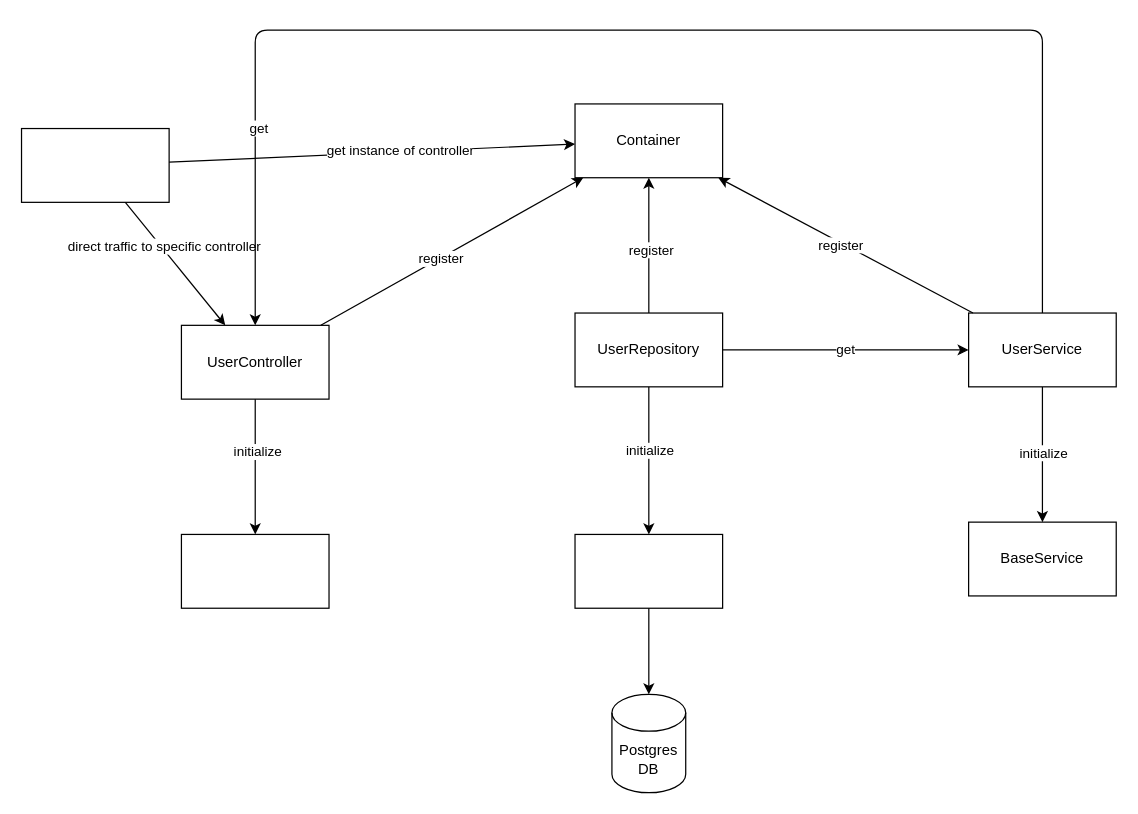
Image size: 1138x814. Some labels were removed from this diagram. Each missing label, with the centre of its shape:
BaseController: the point at 254,570
BaseRepository: the point at 648,570
route: the point at 94,164
